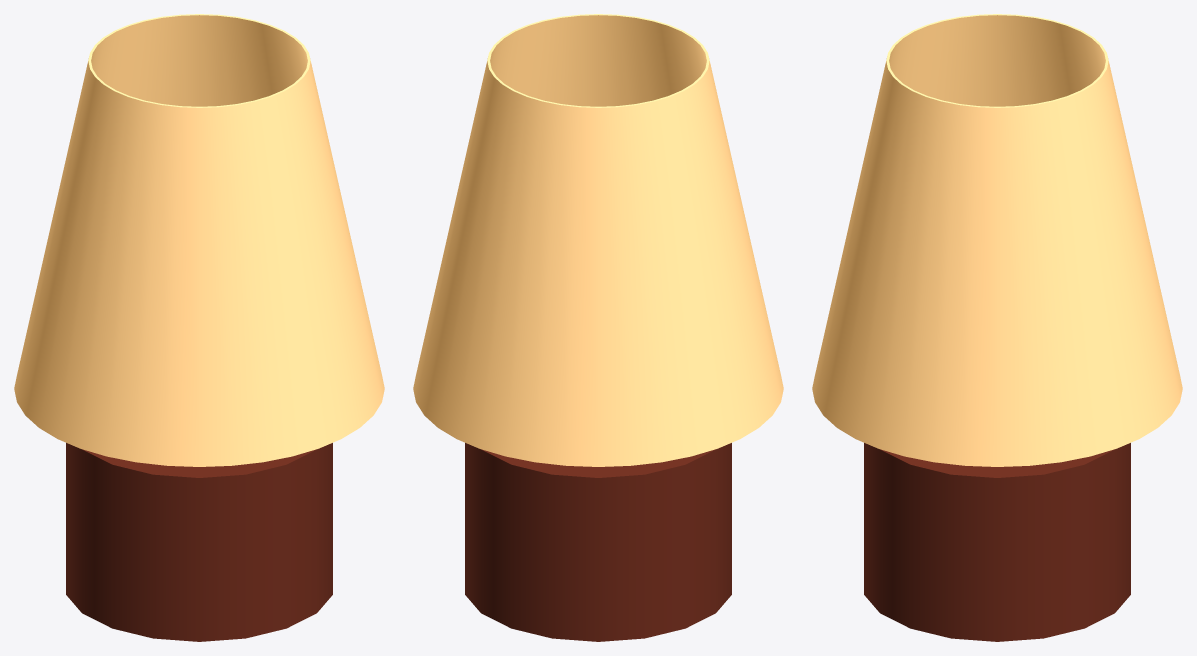
File: Table_Lamp_RoundBase_ConeShade.fbx
3 views of the same model, side by side, from view 1: azimuth 30°, elevation 25°; view 2: azimuth 150°, elevation 25°; view 3: azimuth 270°, elevation 25° (orthographic).
Parts seen in each view (by area): view 1: Table_Lamp_RoundBase_ConeShade; view 2: Table_Lamp_RoundBase_ConeShade; view 3: Table_Lamp_RoundBase_ConeShade.
Part boxes in pixels (x1,y1,x2,y2): Table_Lamp_RoundBase_ConeShade: [14, 14, 384, 641]; Table_Lamp_RoundBase_ConeShade: [413, 14, 783, 641]; Table_Lamp_RoundBase_ConeShade: [812, 14, 1182, 641].
Size of the model in its own units: 30.75 by 47.93 by 30.75.
